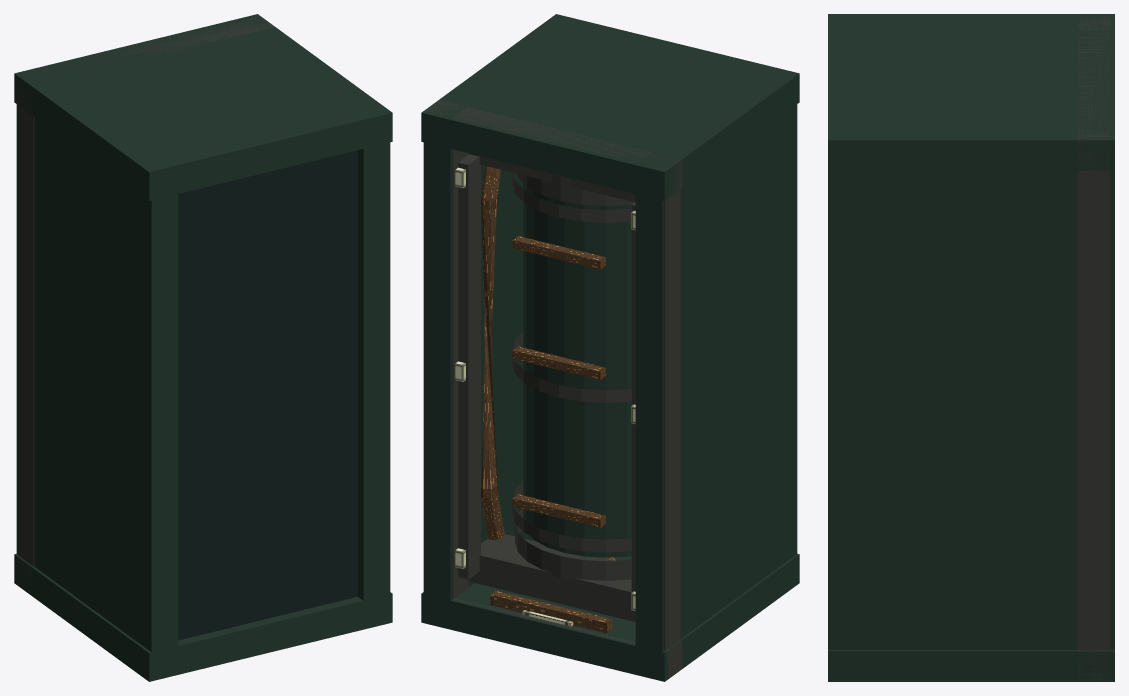
File: destiny_oxygen_generator.obj
The picture shows the model from 3 angles, left to right: view 1: azimuth 30°, elevation 25°; view 2: azimuth 150°, elevation 25°; view 3: azimuth 270°, elevation 25°; orthographic projection. The views are drawn at different scales.
Visible parts, largest first — view 1: Destiny_Single_Air_Scrubber; view 2: Destiny_Single_Air_Scrubber; view 3: Destiny_Single_Air_Scrubber.
Boxes of the visible parts, x1=… form: Destiny_Single_Air_Scrubber: x1=14, y1=14, x2=392, y2=681; Destiny_Single_Air_Scrubber: x1=421, y1=14, x2=799, y2=681; Destiny_Single_Air_Scrubber: x1=828, y1=14, x2=1114, y2=681.
Size of the model in its own units: 1 by 2 by 0.96.
